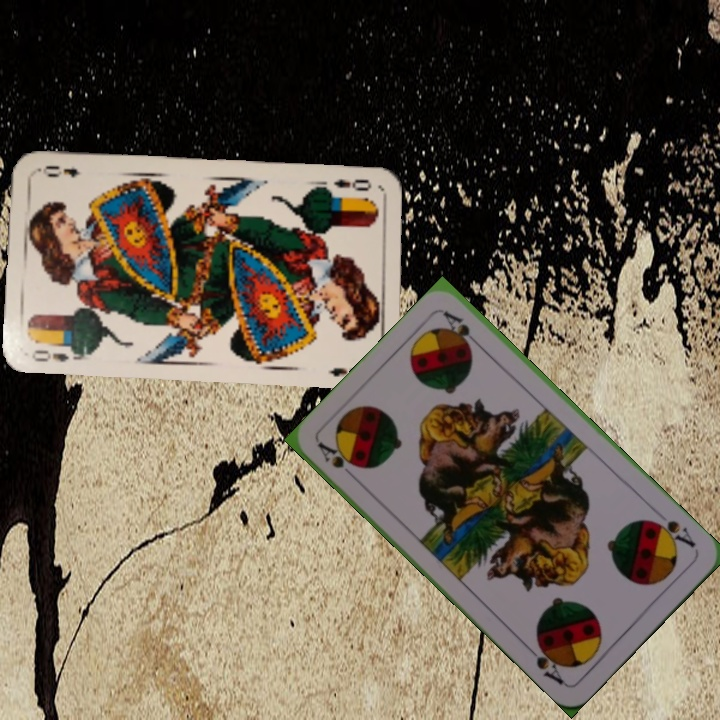EO: (28, 341, 83, 365), (330, 174, 374, 194)
SA: (646, 515, 699, 550), (313, 437, 361, 472)
